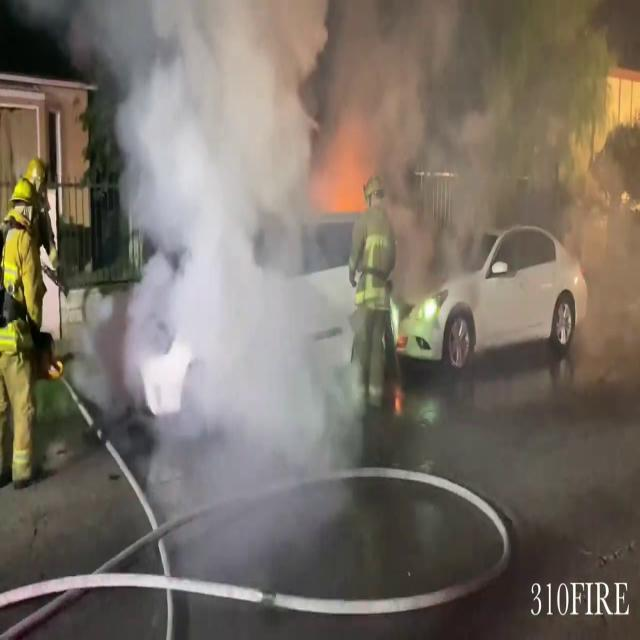Smoke: (74, 0, 606, 442)
